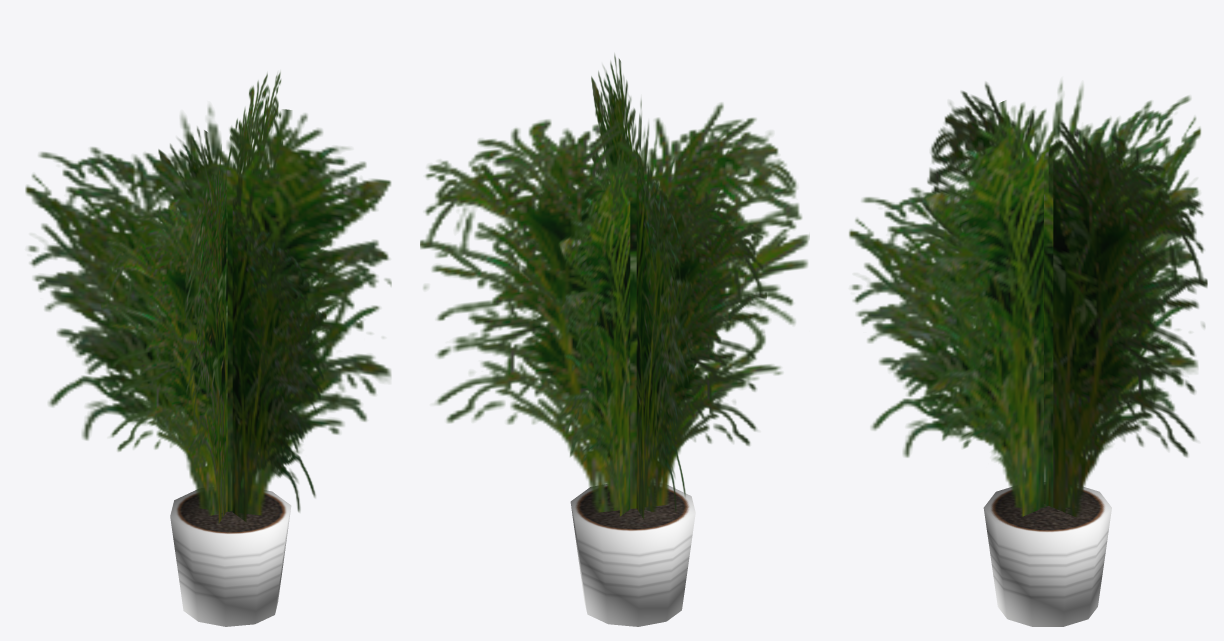
Rendered from areca_palm.glb.
3 views of the same model, side by side, from view 1: azimuth 30°, elevation 25°; view 2: azimuth 150°, elevation 25°; view 3: azimuth 270°, elevation 25° (orthographic). The views are drawn at different scales.
Visible parts, largest first — view 1: areca_palm; view 2: areca_palm; view 3: areca_palm.
Part boxes in pixels (x1,y1,x2,y2): areca_palm: [25, 72, 391, 626]; areca_palm: [420, 54, 809, 626]; areca_palm: [849, 82, 1207, 626].
Size of the model in its own units: 0.3902 by 0.7029 by 0.4525.
1 material, 1 textured.
